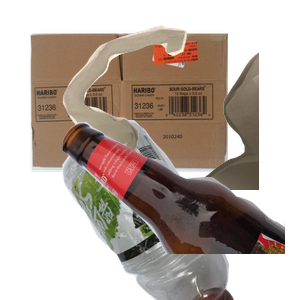cardboard: (28, 31, 249, 195)
glass: (60, 120, 300, 300)
plastic: (25, 120, 252, 300)
trash: (60, 23, 300, 203)
